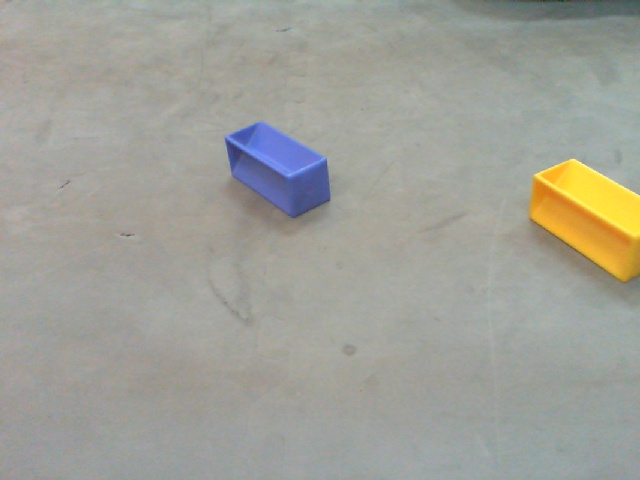BlueSample: (222, 118, 335, 222)
YellowSample: (529, 155, 640, 293)
